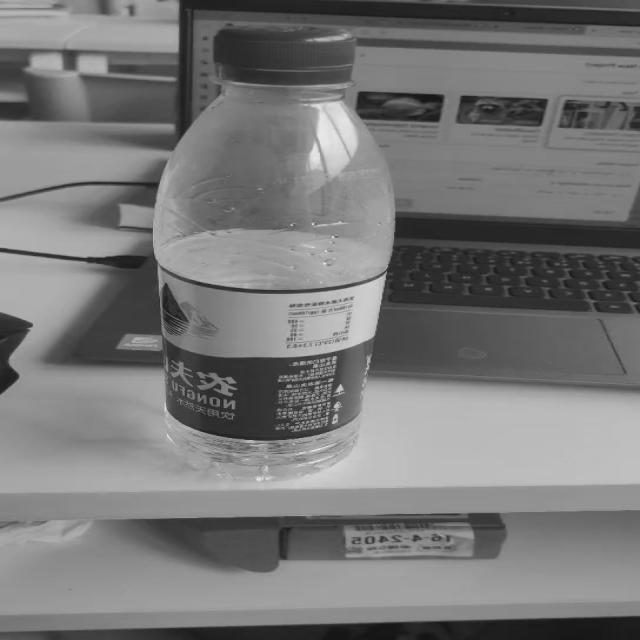bottle: (148, 16, 395, 499)
